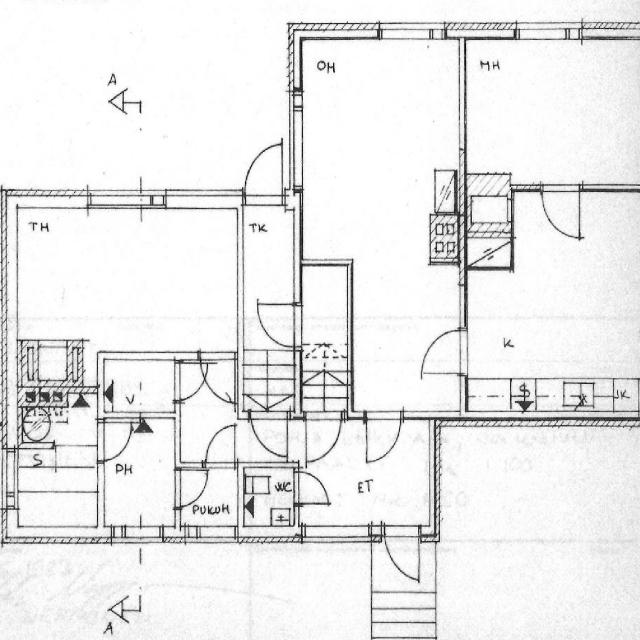door: (244, 145, 282, 207), (540, 184, 578, 236), (384, 526, 418, 584), (422, 331, 467, 374), (306, 411, 341, 463), (199, 351, 234, 403), (260, 304, 302, 346), (366, 411, 399, 461), (253, 410, 286, 460), (97, 423, 136, 461), (173, 469, 210, 506), (173, 363, 210, 400), (205, 427, 234, 467), (294, 473, 324, 503)
